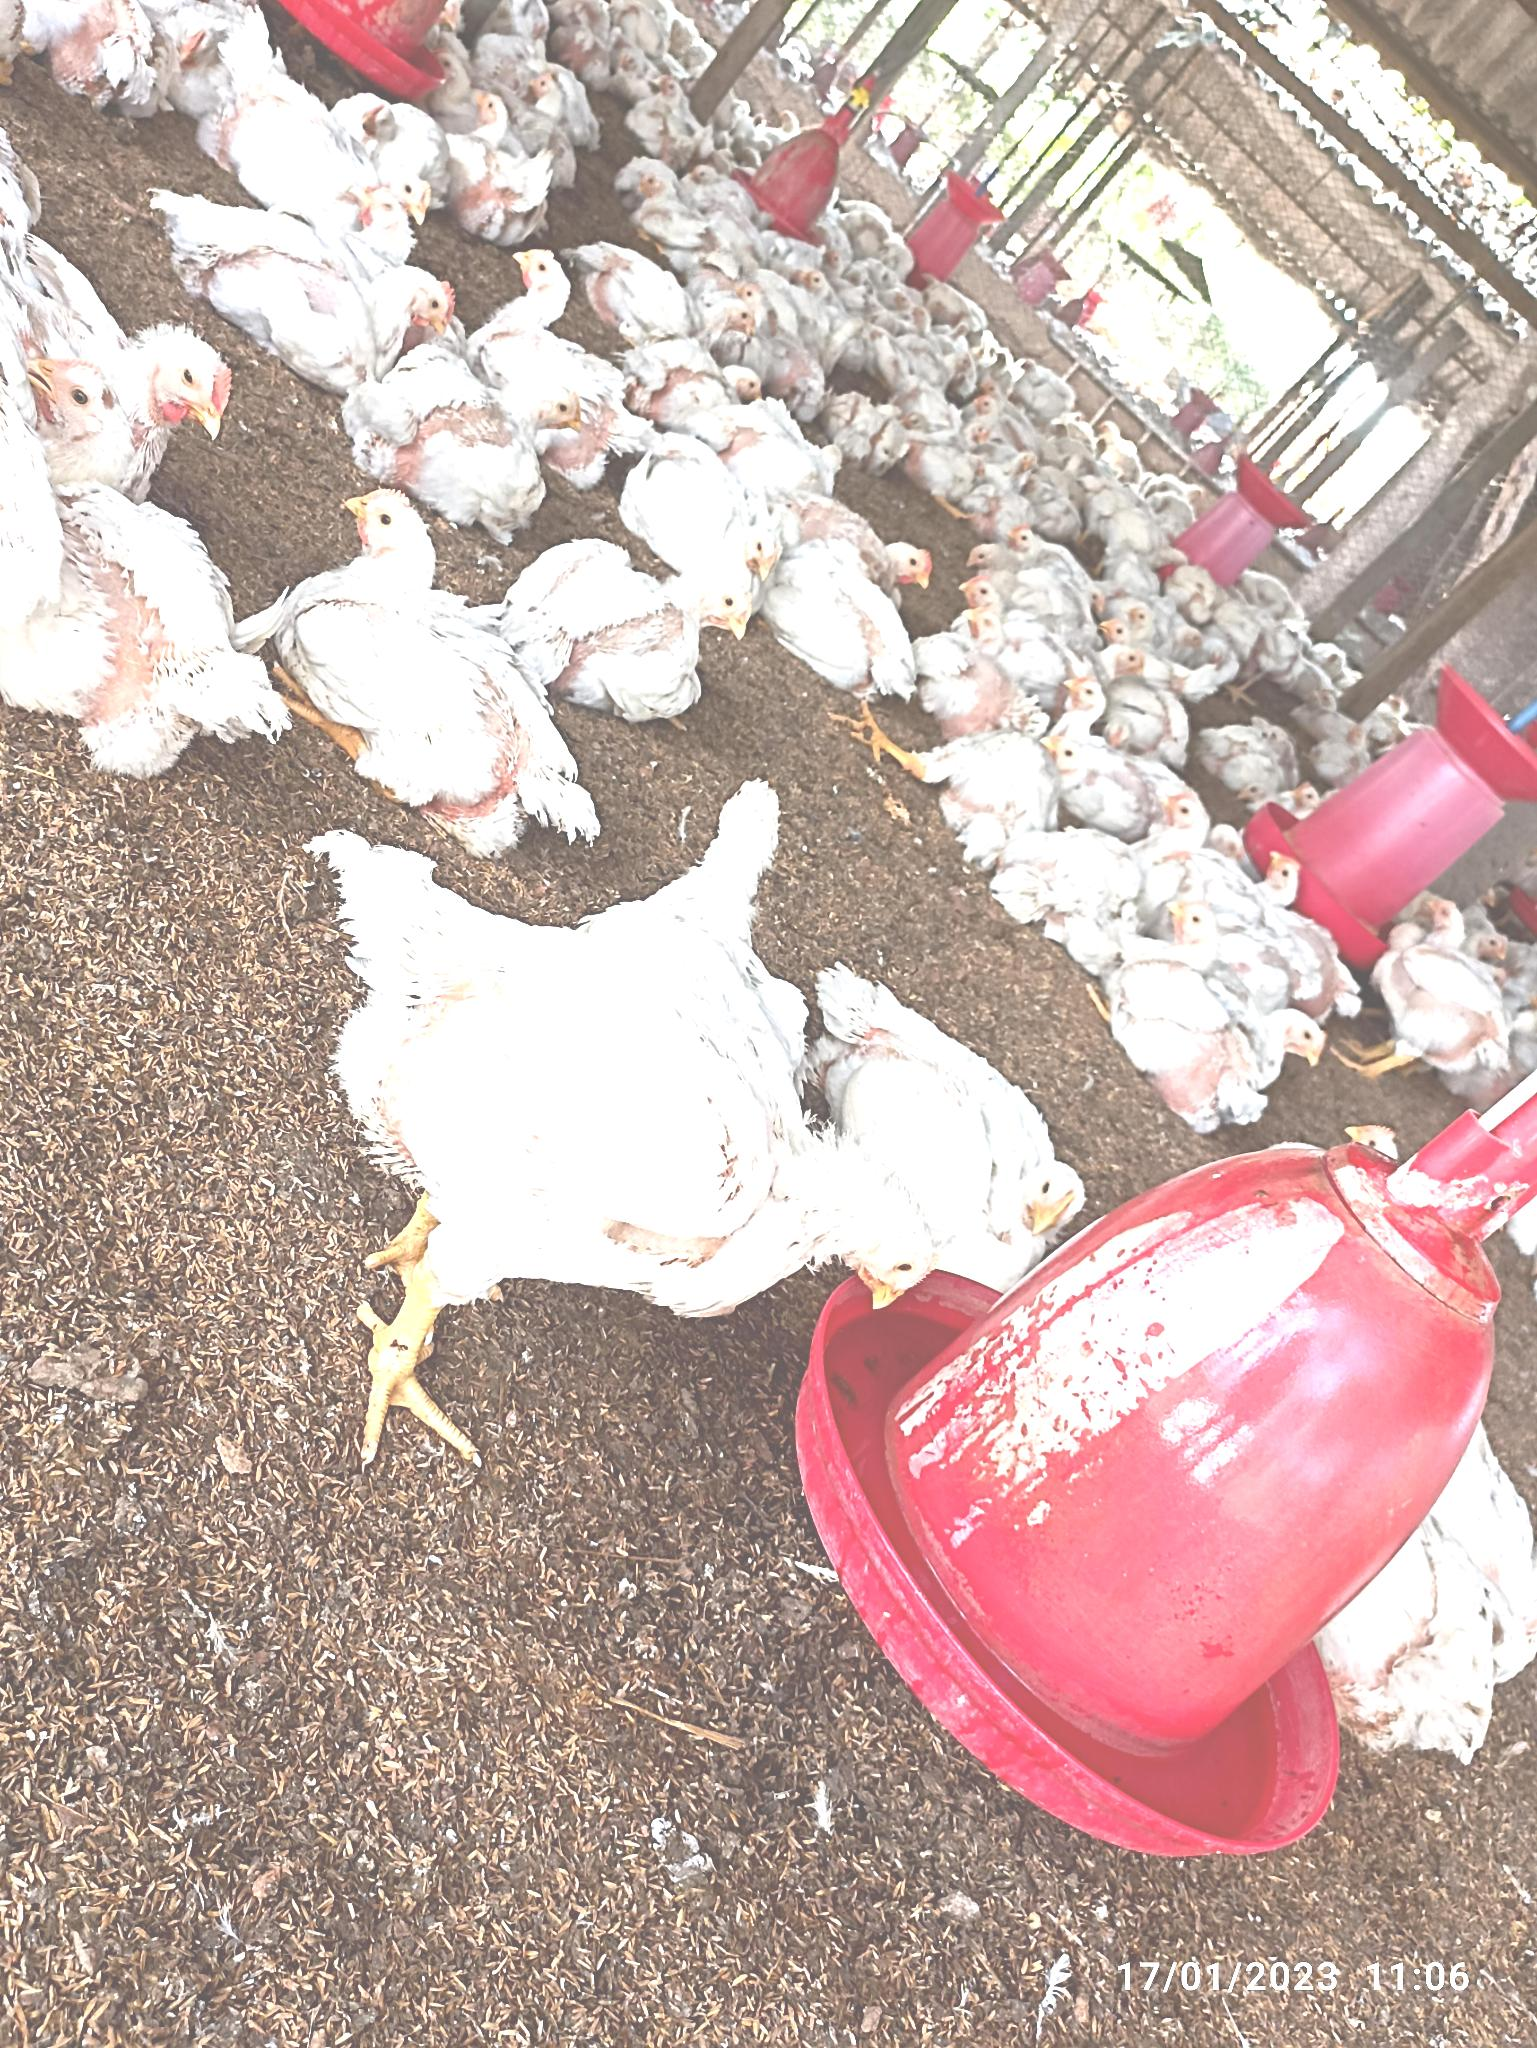Pollos: (320, 868, 909, 1309), (283, 483, 588, 838), (836, 975, 1083, 1230), (1114, 968, 1327, 1125), (518, 557, 757, 686), (203, 236, 462, 339), (1380, 891, 1527, 1068), (360, 373, 594, 483), (468, 249, 628, 387), (1130, 796, 1250, 918), (794, 497, 935, 591), (655, 457, 781, 557), (965, 599, 1056, 733)
